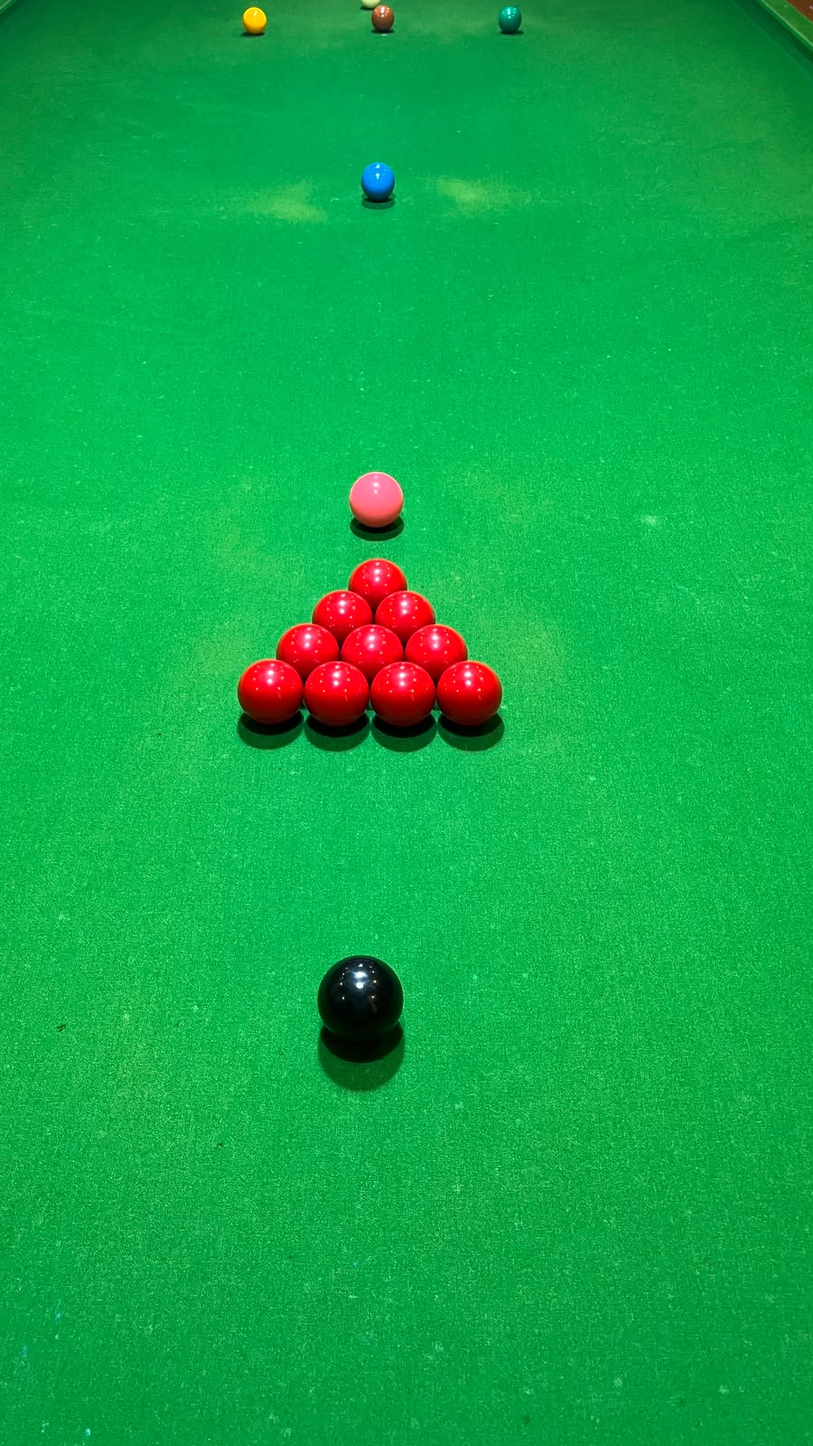Snooker: (230, 536, 519, 768)
